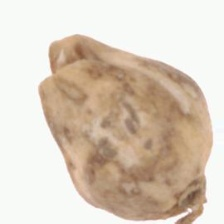L1: (36, 32, 94, 92), (164, 173, 210, 224)
L2: (37, 33, 213, 224)
